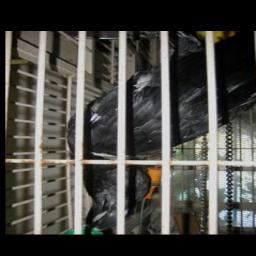Crow: (67, 32, 256, 231)
